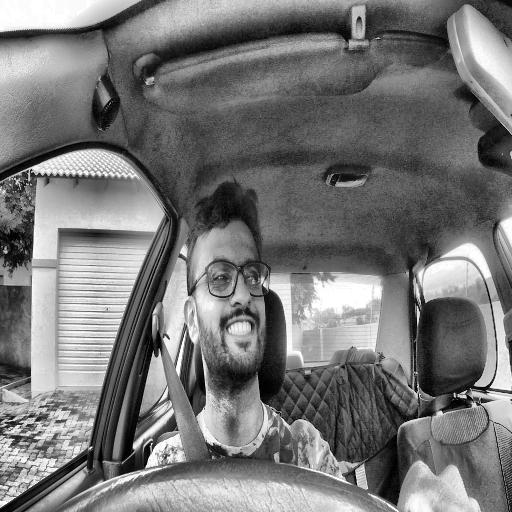awake: (182, 177, 271, 401)
